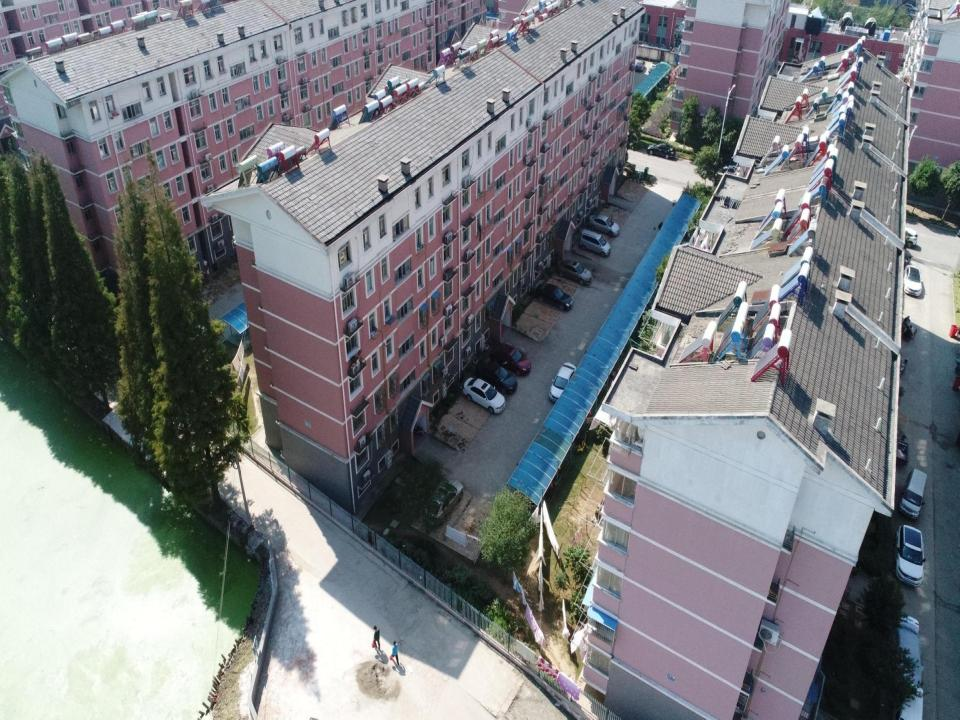car: (889, 612, 923, 698), (422, 476, 464, 529), (461, 376, 506, 414), (897, 524, 924, 587), (475, 359, 517, 394), (488, 343, 532, 373), (548, 358, 578, 401), (533, 283, 573, 311), (885, 218, 918, 249), (579, 228, 611, 258), (556, 259, 592, 285), (588, 213, 620, 237), (904, 266, 923, 298), (647, 142, 676, 158), (634, 58, 646, 73)
van: (899, 468, 928, 522), (897, 686, 923, 720)
